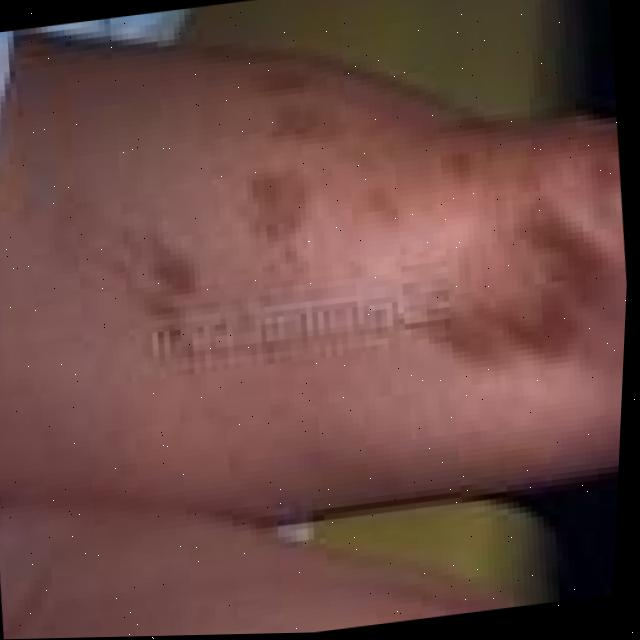Melasma: (102, 38, 356, 325), (382, 205, 598, 368)
